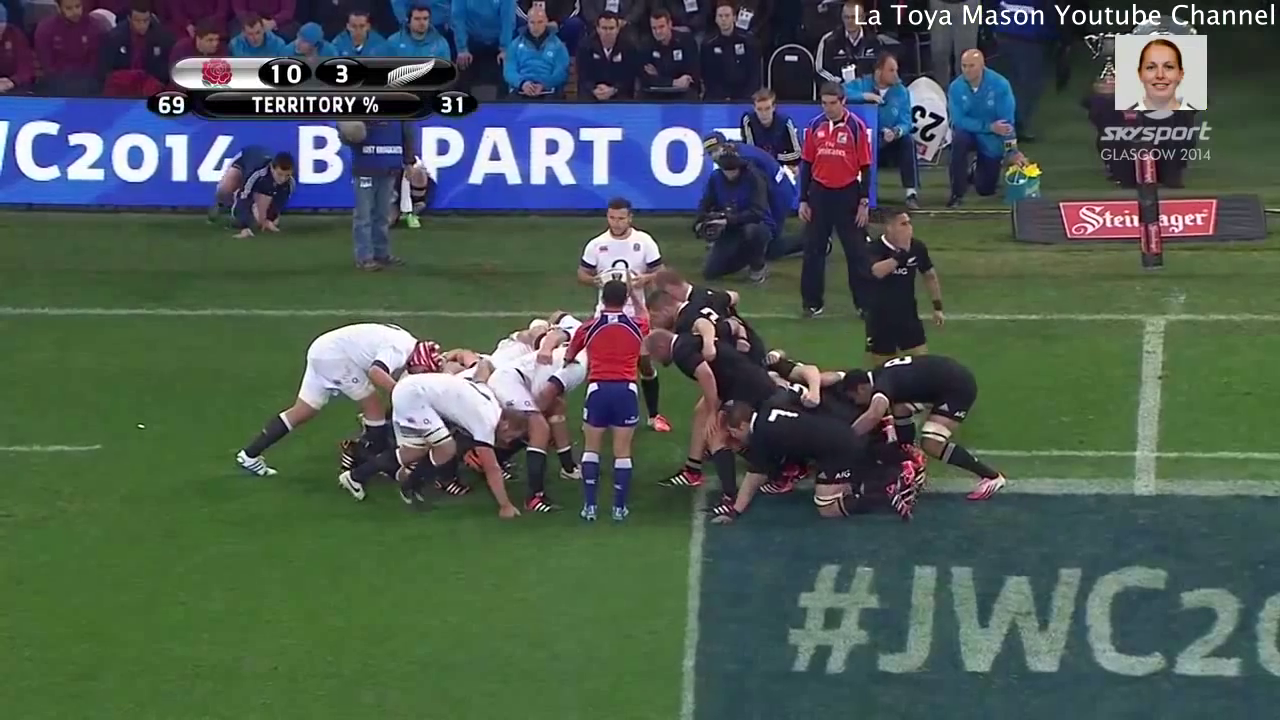player: (232, 320, 409, 489), (723, 401, 913, 517), (565, 277, 649, 527), (853, 362, 1008, 494), (389, 372, 513, 520), (493, 343, 577, 515), (846, 213, 947, 352), (645, 324, 764, 400), (573, 199, 660, 276), (648, 293, 714, 324), (658, 266, 717, 299)
scrum: (236, 304, 1025, 517)
